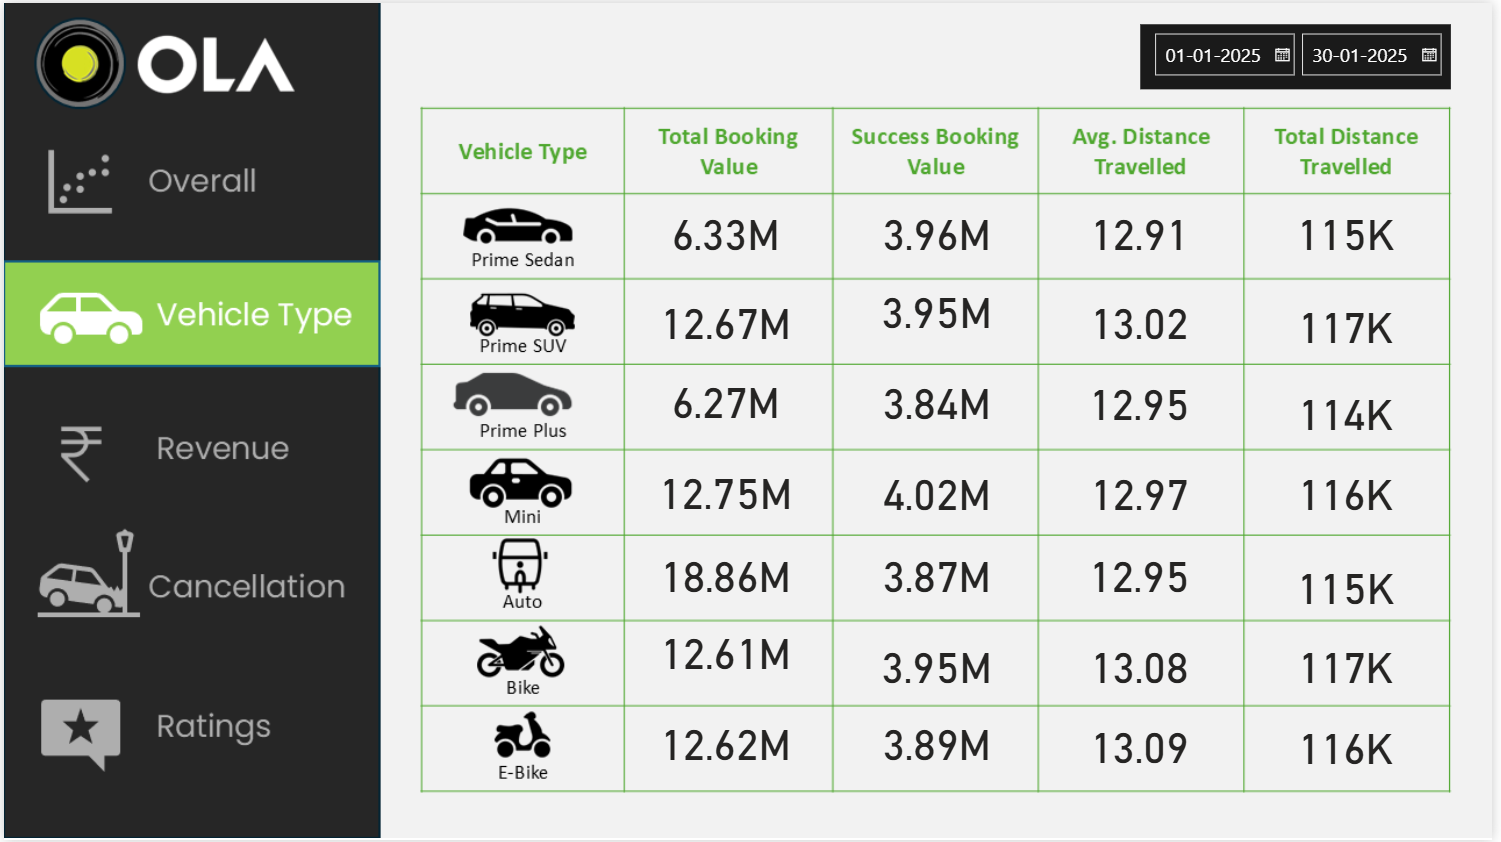

The dashboard page shown, as its layout file describes it:
{"tool":"powerbi","page":{"name":"Vehicle Type","canvas":[1280,720],"ordinal":1},"visuals":[{"type":"textbox","box":[0,113.9,325.2,83.7],"z":0},{"type":"textbox","box":[1.4,340.3,325.2,89.2],"z":1000},{"type":"textbox","box":[0,446,325.2,90.6],"z":2000},{"type":"textbox","box":[0,581.8,325.2,87.8],"z":3000},{"type":"card","fields":{"Values":["Sum(Ride_Data.Booking_Value)"]},"box":[544.8,163.3,150.9,67.2],"z":4000},{"type":"card","fields":{"Values":["Sum(Ride_Data.Booking_Value)"]},"box":[544.8,385.6,150.9,67.2],"z":5000},{"type":"card","fields":{"Values":["Sum(Ride_Data.Booking_Value)"]},"box":[544.8,456.9,150.9,67.2],"z":6000},{"type":"card","fields":{"Values":["Sum(Ride_Data.Booking_Value)"]},"box":[544.8,524.2,150.9,67.2],"z":7000},{"type":"card","fields":{"Values":["Sum(Ride_Data.Booking_Value)"]},"box":[544.8,602.4,150.9,67.2],"z":8000},{"type":"card","fields":{"Values":["Sum(Ride_Data.Booking_Value)"]},"box":[544.8,240.1,150.9,67.2],"z":9000},{"type":"card","fields":{"Values":["Sum(Ride_Data.Booking_Value)"]},"box":[544.8,307.4,150.9,67.2],"z":10000},{"type":"card","fields":{"Values":["Sum(Ride_Data.Booking_Value)"]},"box":[727.3,163.3,150.9,67.2],"z":11000},{"type":"card","fields":{"Values":["Sum(Ride_Data.Booking_Value)"]},"box":[727.3,230.5,150.9,67.2],"z":12000},{"type":"card","fields":{"Values":["Sum(Ride_Data.Booking_Value)"]},"box":[727.3,308.7,150.9,67.2],"z":13000},{"type":"card","fields":{"Values":["Sum(Ride_Data.Booking_Value)"]},"box":[727.3,387,150.9,67.2],"z":14000},{"type":"card","fields":{"Values":["Sum(Ride_Data.Booking_Value)"]},"box":[727.3,456.9,150.9,67.2],"z":15000},{"type":"card","fields":{"Values":["Sum(Ride_Data.Booking_Value)"]},"box":[727.3,535.2,150.9,67.2],"z":16000},{"type":"card","fields":{"Values":["Sum(Ride_Data.Booking_Value)"]},"box":[727.3,602.4,150.9,67.2],"z":17000},{"type":"card","fields":{"Values":["Avg(Ride_Data.Ride_Distance)"]},"box":[901.5,163.3,150.9,67.2],"z":18000},{"type":"card","fields":{"Values":["Avg(Ride_Data.Ride_Distance)"]},"box":[901.5,240.1,150.9,67.2],"z":19000},{"type":"card","fields":{"Values":["Avg(Ride_Data.Ride_Distance)"]},"box":[901.5,310.1,150.9,67.2],"z":20000},{"type":"card","fields":{"Values":["Avg(Ride_Data.Ride_Distance)"]},"box":[901.5,387,150.9,67.2],"z":21000},{"type":"card","fields":{"Values":["Avg(Ride_Data.Ride_Distance)"]},"box":[901.5,456.9,150.9,67.2],"z":22000},{"type":"card","fields":{"Values":["Avg(Ride_Data.Ride_Distance)"]},"box":[901.5,535.2,150.9,67.2],"z":23000},{"type":"card","fields":{"Values":["Avg(Ride_Data.Ride_Distance)"]},"box":[901.5,603.8,150.9,67.2],"z":24000},{"type":"card","fields":{"Values":["Sum(Ride_Data.Ride_Distance)"]},"box":[1078.6,605.1,150.9,67.2],"z":25000},{"type":"card","fields":{"Values":["Sum(Ride_Data.Ride_Distance)"]},"box":[1078.6,535.2,150.9,67.2],"z":26000},{"type":"card","fields":{"Values":["Sum(Ride_Data.Ride_Distance)"]},"box":[1078.6,467.9,150.9,67.2],"z":27000},{"type":"card","fields":{"Values":["Sum(Ride_Data.Ride_Distance)"]},"box":[1078.6,387,150.9,67.2],"z":28000},{"type":"card","fields":{"Values":["Sum(Ride_Data.Ride_Distance)"]},"box":[1078.6,318.4,150.9,67.2],"z":29000},{"type":"card","fields":{"Values":["Sum(Ride_Data.Ride_Distance)"]},"box":[1078.6,242.9,150.9,67.2],"z":30000},{"type":"card","fields":{"Values":["Sum(Ride_Data.Ride_Distance)"]},"box":[1078.6,163.3,150.9,67.2],"z":31000},{"type":"slicer","title":"Date","fields":{"Values":["Ride_Data.Date"]},"box":[977,17.8,267.6,56.3],"z":32000}]}

Visuals, with their boxes in screenshot pixels (x1, y1, x2, y2), scaled from the page's 1280x720 canvas onto the 1501x842 screenshot:
textbox: {"x1": 0, "y1": 133, "x2": 381, "y2": 231}
textbox: {"x1": 2, "y1": 398, "x2": 383, "y2": 502}
textbox: {"x1": 0, "y1": 522, "x2": 381, "y2": 628}
textbox: {"x1": 0, "y1": 680, "x2": 381, "y2": 783}
card - Sum(Ride_Data.Booking_Value): {"x1": 639, "y1": 191, "x2": 816, "y2": 270}
card - Sum(Ride_Data.Booking_Value): {"x1": 639, "y1": 451, "x2": 816, "y2": 530}
card - Sum(Ride_Data.Booking_Value): {"x1": 639, "y1": 534, "x2": 816, "y2": 613}
card - Sum(Ride_Data.Booking_Value): {"x1": 639, "y1": 613, "x2": 816, "y2": 692}
card - Sum(Ride_Data.Booking_Value): {"x1": 639, "y1": 704, "x2": 816, "y2": 783}
card - Sum(Ride_Data.Booking_Value): {"x1": 639, "y1": 281, "x2": 816, "y2": 359}
card - Sum(Ride_Data.Booking_Value): {"x1": 639, "y1": 359, "x2": 816, "y2": 438}
card - Sum(Ride_Data.Booking_Value): {"x1": 853, "y1": 191, "x2": 1030, "y2": 270}
card - Sum(Ride_Data.Booking_Value): {"x1": 853, "y1": 270, "x2": 1030, "y2": 348}
card - Sum(Ride_Data.Booking_Value): {"x1": 853, "y1": 361, "x2": 1030, "y2": 440}
card - Sum(Ride_Data.Booking_Value): {"x1": 853, "y1": 453, "x2": 1030, "y2": 531}
card - Sum(Ride_Data.Booking_Value): {"x1": 853, "y1": 534, "x2": 1030, "y2": 613}
card - Sum(Ride_Data.Booking_Value): {"x1": 853, "y1": 626, "x2": 1030, "y2": 704}
card - Sum(Ride_Data.Booking_Value): {"x1": 853, "y1": 704, "x2": 1030, "y2": 783}
card - Avg(Ride_Data.Ride_Distance): {"x1": 1057, "y1": 191, "x2": 1234, "y2": 270}
card - Avg(Ride_Data.Ride_Distance): {"x1": 1057, "y1": 281, "x2": 1234, "y2": 359}
card - Avg(Ride_Data.Ride_Distance): {"x1": 1057, "y1": 363, "x2": 1234, "y2": 441}
card - Avg(Ride_Data.Ride_Distance): {"x1": 1057, "y1": 453, "x2": 1234, "y2": 531}
card - Avg(Ride_Data.Ride_Distance): {"x1": 1057, "y1": 534, "x2": 1234, "y2": 613}
card - Avg(Ride_Data.Ride_Distance): {"x1": 1057, "y1": 626, "x2": 1234, "y2": 704}
card - Avg(Ride_Data.Ride_Distance): {"x1": 1057, "y1": 706, "x2": 1234, "y2": 785}
card - Sum(Ride_Data.Ride_Distance): {"x1": 1265, "y1": 708, "x2": 1442, "y2": 786}
card - Sum(Ride_Data.Ride_Distance): {"x1": 1265, "y1": 626, "x2": 1442, "y2": 704}
card - Sum(Ride_Data.Ride_Distance): {"x1": 1265, "y1": 547, "x2": 1442, "y2": 626}
card - Sum(Ride_Data.Ride_Distance): {"x1": 1265, "y1": 453, "x2": 1442, "y2": 531}
card - Sum(Ride_Data.Ride_Distance): {"x1": 1265, "y1": 372, "x2": 1442, "y2": 451}
card - Sum(Ride_Data.Ride_Distance): {"x1": 1265, "y1": 284, "x2": 1442, "y2": 363}
card - Sum(Ride_Data.Ride_Distance): {"x1": 1265, "y1": 191, "x2": 1442, "y2": 270}
"Date" slicer: {"x1": 1146, "y1": 21, "x2": 1459, "y2": 87}
